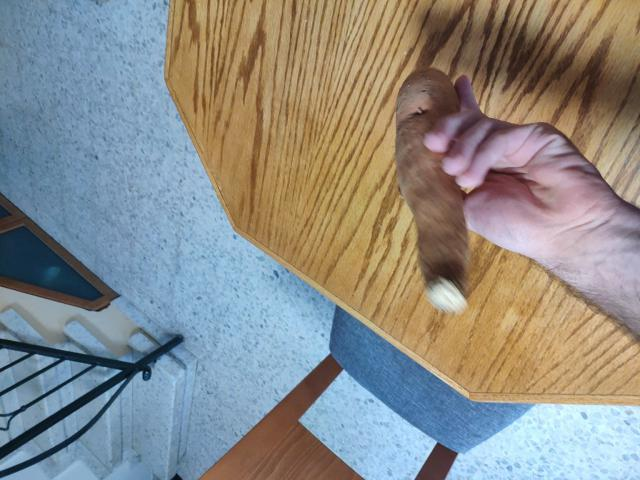sweet_potato: (386, 66, 491, 302)
